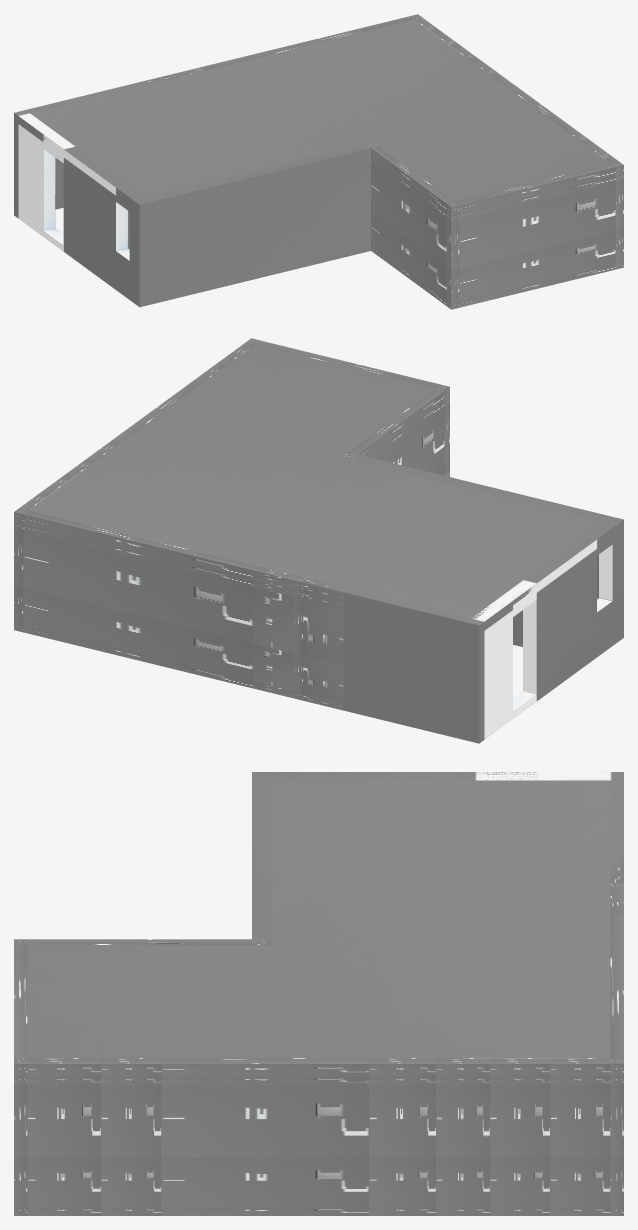
The model's file is secndfl.gltf.
3 views of the same model, one above another, from view 1: azimuth 30°, elevation 25°; view 2: azimuth 150°, elevation 25°; view 3: azimuth 270°, elevation 25° (orthographic). The views are drawn at different scales.
Parts seen in each view (by area): view 1: secndfl; view 2: secndfl; view 3: secndfl.
Boxes of the visible parts, x1,y1,x2,y2 form: secndfl: (14, 14, 623, 309); secndfl: (14, 338, 623, 743); secndfl: (14, 772, 623, 1215).
Bounding box in the file's own units: 10.3 × 2.5 × 9.1.
1 material, 1 textured.
